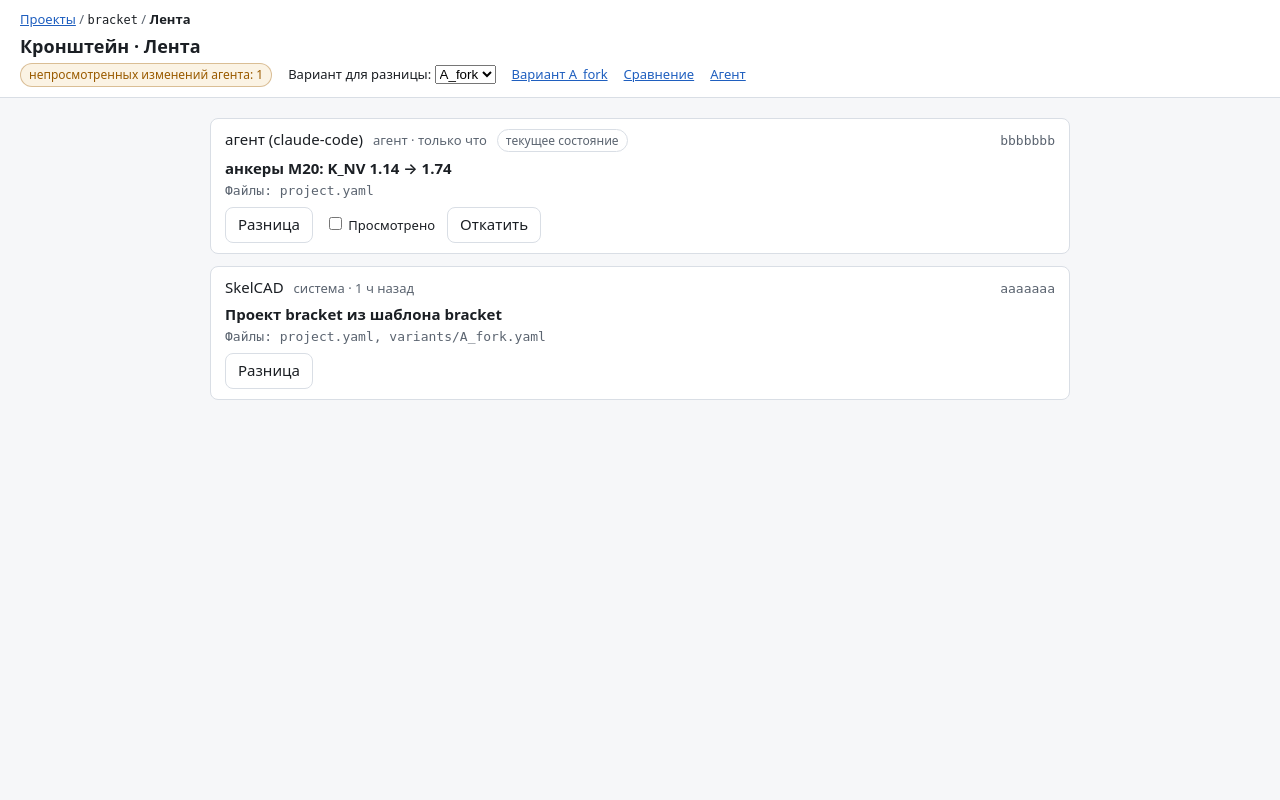
Test: Лента › показывает коммиты, счётчик непросмотренных, разницу по кнопке и отметку «Просмотрено»
expect the text "анкеры M20: K_NV 1.14 → 1.74" is shown: met, box [225,158,452,178]
expect the text "непросмотренных изменений агента: 1" is shown: met, box [20,63,272,87]
What coordinates should you click on to do the following:
click the button "Разница" next to "Просмотрено"
I would click on:
 (269, 225)
Its box is [225,207,313,243].
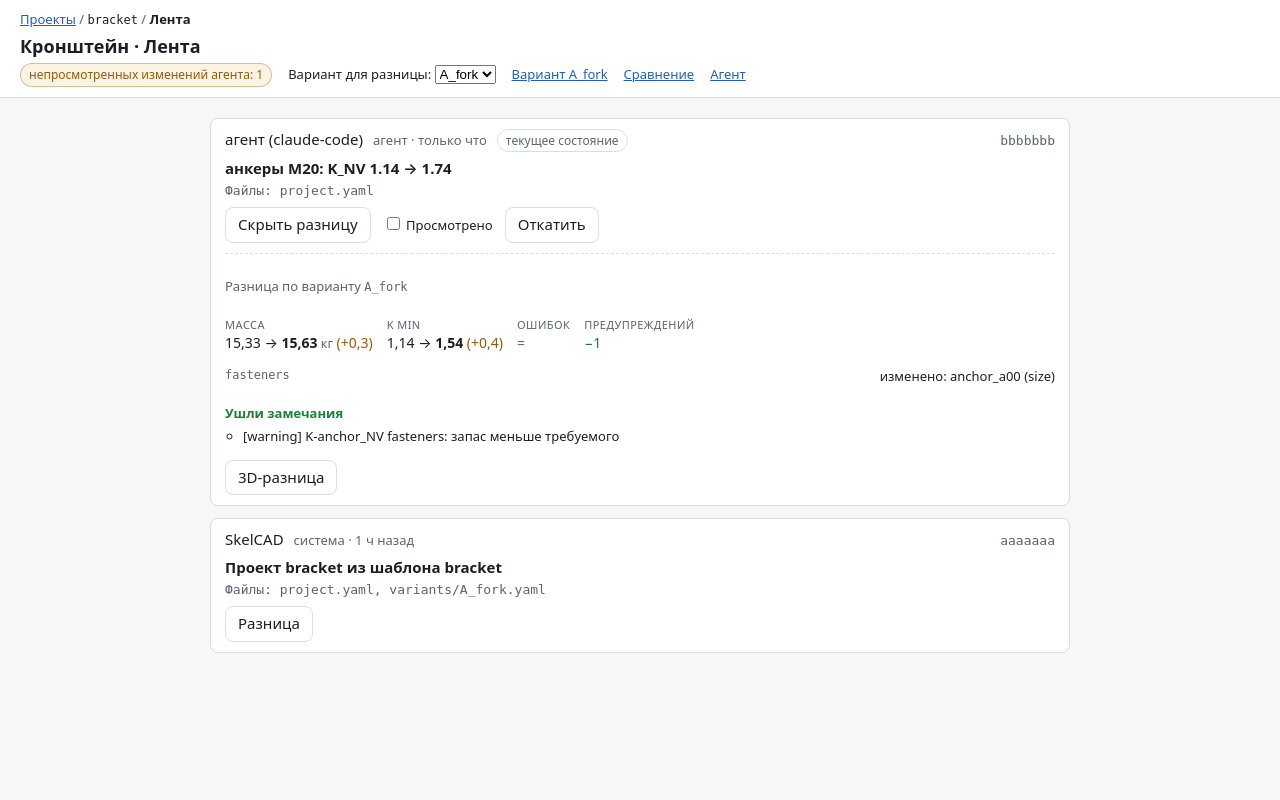
expect the heading "Ушли замечания" is shown: met, box [225,404,343,422]
expect the text "15,63" is shown: met, box [281,333,317,352]
What coordinates should you click on to do the following:
click the checkbox labelled "Просмотрено"
I would click on:
 (393, 224)
Its box is [387,217,400,230].
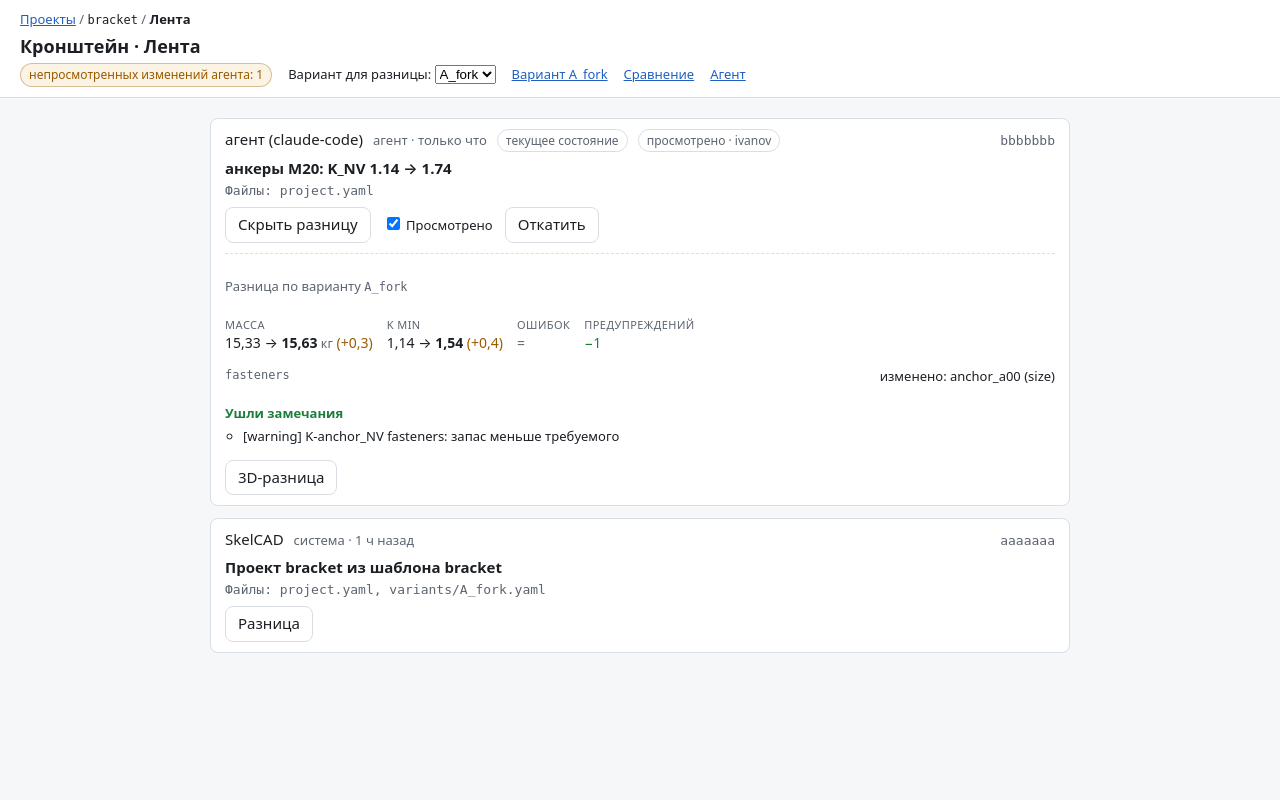
expect the text "просмотрено · ivanov" is shown: met, box [638,129,780,152]
